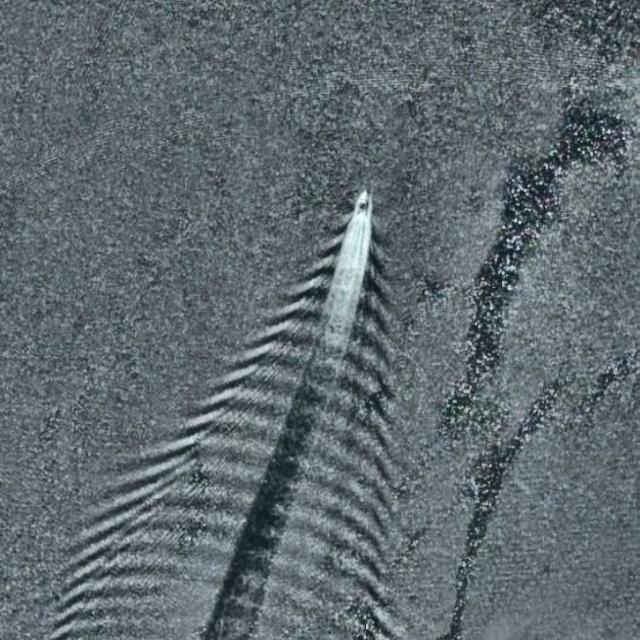wake: (222, 155, 463, 468)
